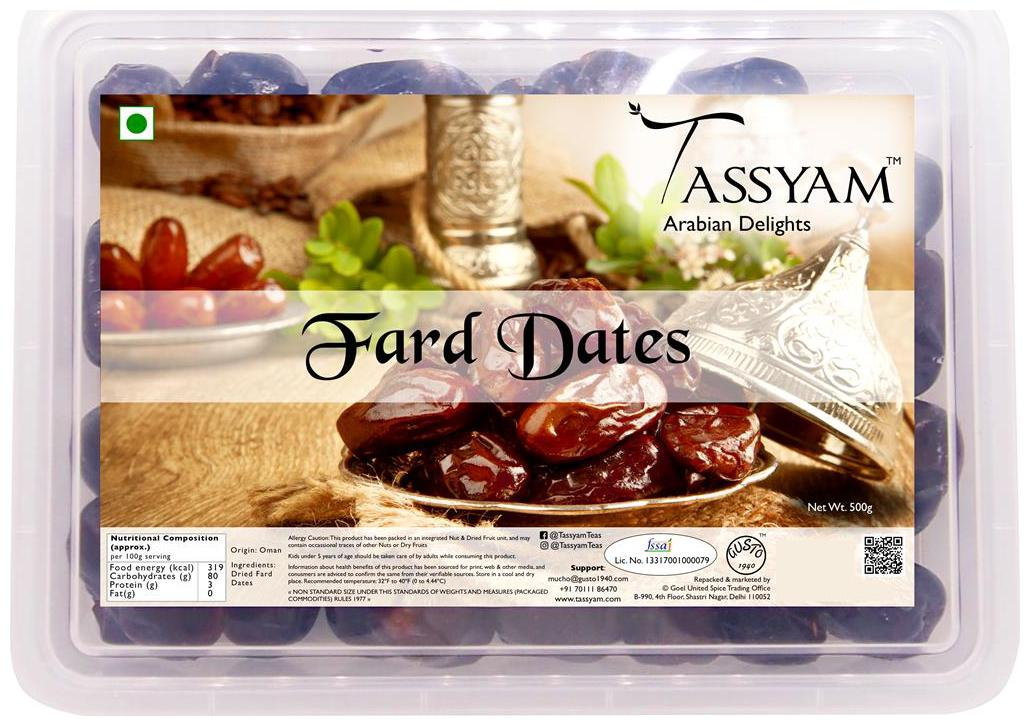fssai: (643, 535, 675, 553)
